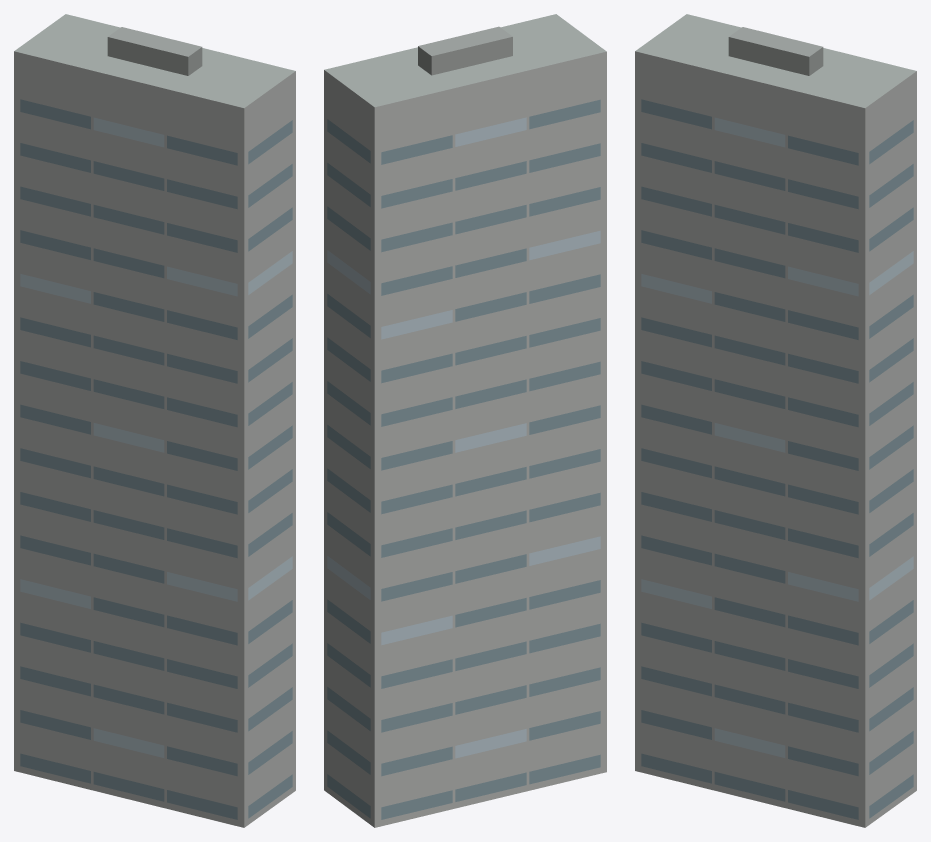
The model's file is fallback-jamsil-parkrio-118.glb.
3 renders of one model, left to right at view 1: azimuth 90°, elevation 25°; view 2: azimuth 150°, elevation 25°; view 3: azimuth 270°, elevation 25°, orthographic.
Parts seen in each view (by area): view 1: fallback-jamsil-parkrio-118; view 2: fallback-jamsil-parkrio-118; view 3: fallback-jamsil-parkrio-118.
Part boxes in pixels (x1=…): fallback-jamsil-parkrio-118: x1=14, y1=14, x2=295, y2=827; fallback-jamsil-parkrio-118: x1=324, y1=14, x2=606, y2=827; fallback-jamsil-parkrio-118: x1=635, y1=14, x2=916, y2=827.
Size of the model in its own units: 25.17 by 92 by 31.8.
